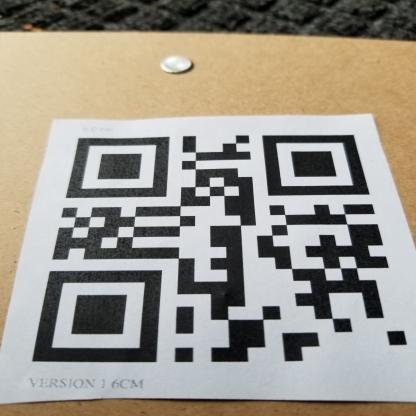qr: (27, 132, 413, 369)
